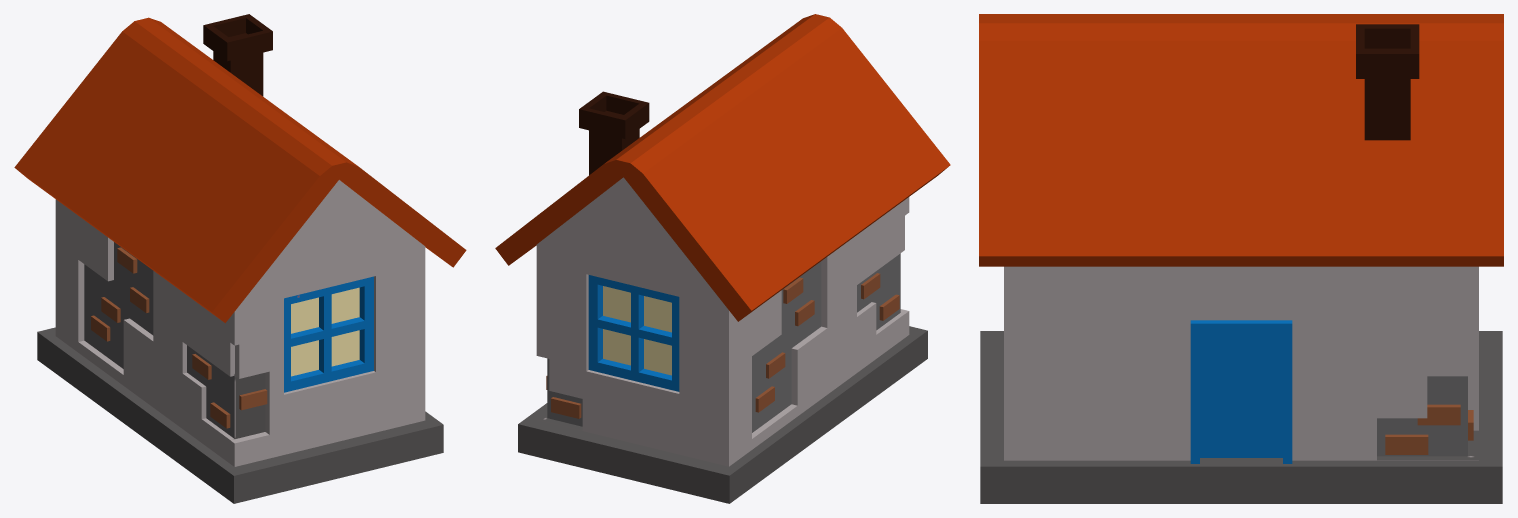
Rendered from House1.fbx.
3 renders of one model, left to right at view 1: azimuth 30°, elevation 25°; view 2: azimuth 150°, elevation 25°; view 3: azimuth 270°, elevation 25°, orthographic. The views are drawn at different scales.
Parts seen in each view (by area): view 1: Cube.001; view 2: Cube.001; view 3: Cube.001.
Boxes of the visible parts, box(x1,y1,x2,y2) form: Cube.001: box(14, 14, 466, 503); Cube.001: box(495, 14, 950, 503); Cube.001: box(979, 14, 1503, 503).
Size of the model in its own units: 267 by 325 by 359.
